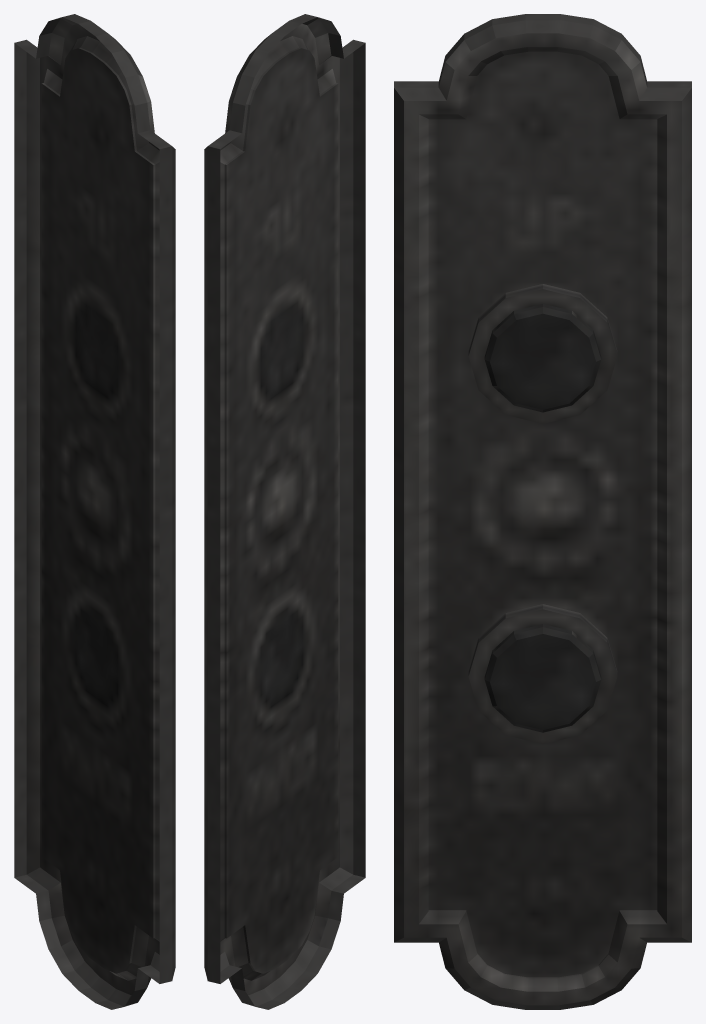
File: elevator_call_button_1.fbx
3 views of the same model, side by side, from view 1: azimuth 30°, elevation 25°; view 2: azimuth 150°, elevation 25°; view 3: azimuth 270°, elevation 25° (orthographic). The views are drawn at different scales.
Visible parts, largest first — view 1: elevator_call_button_1; view 2: elevator_call_button_1; view 3: elevator_call_button_1.
Part boxes in pixels (x1,y1,x2,y2): elevator_call_button_1: (14,14,175,1009); elevator_call_button_1: (204,14,365,1009); elevator_call_button_1: (394,14,691,1009).
Size of the model in its own units: 1.5 by 44 by 12.
